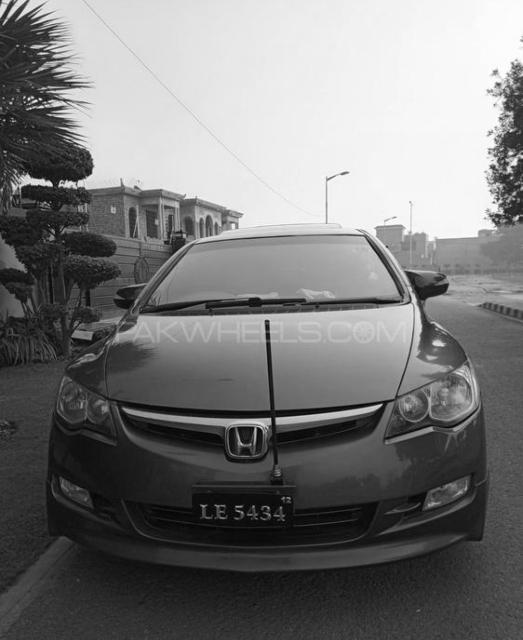Number: (199, 502, 283, 522)
